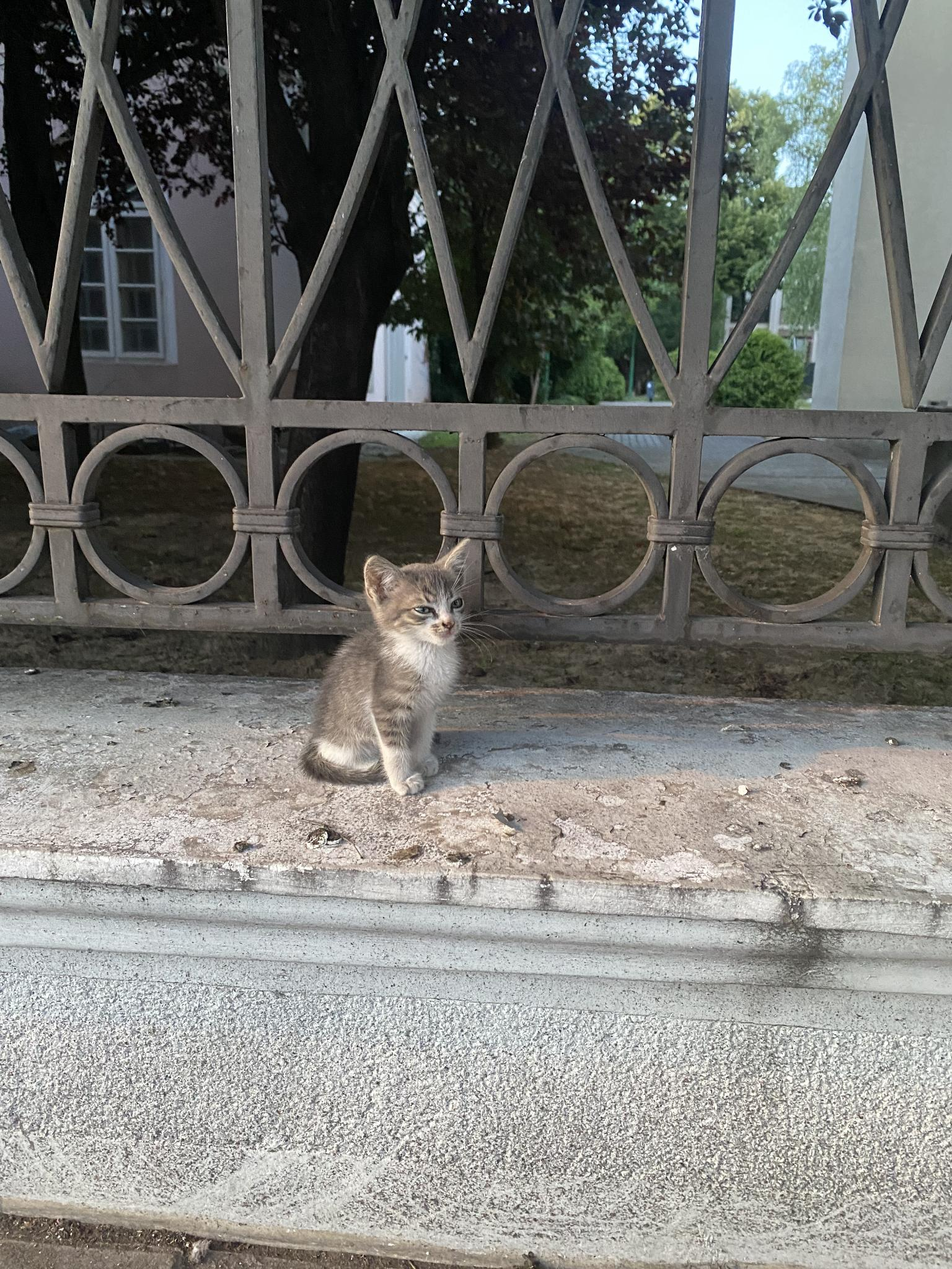macka: (300, 539, 472, 796)
